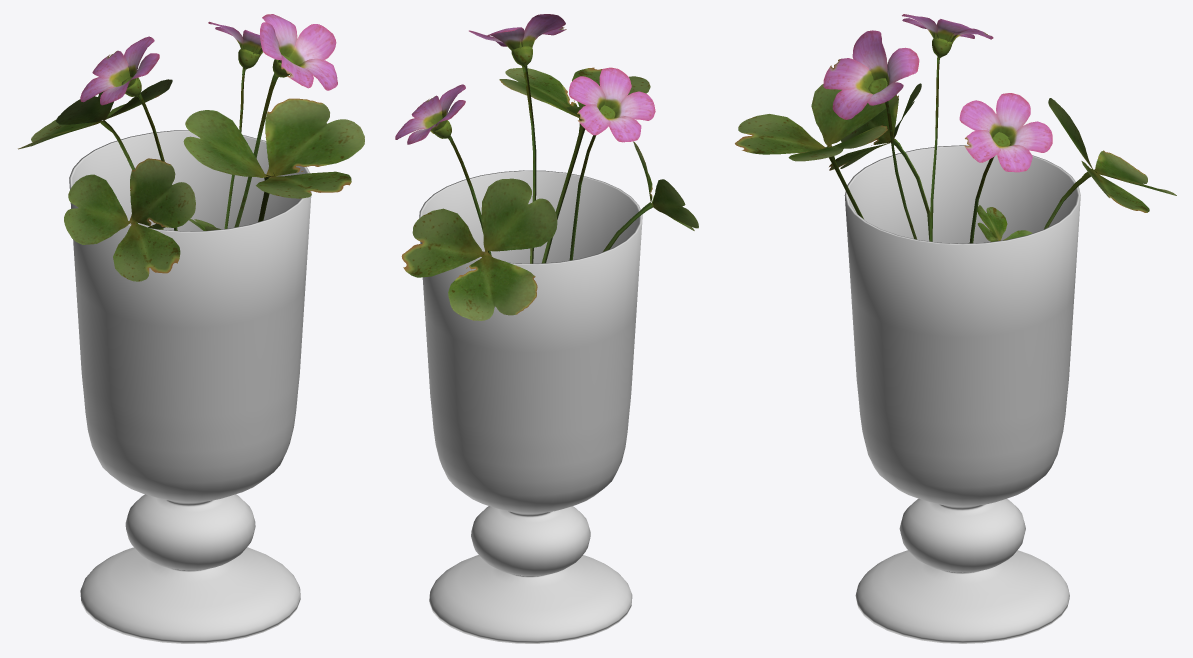
Rendered from khr_glass_vase_flowers.gltf.
3 renders of one model, left to right at view 1: azimuth 30°, elevation 25°; view 2: azimuth 150°, elevation 25°; view 3: azimuth 270°, elevation 25°, orthographic. The views are drawn at different scales.
Parts seen in each view (by area): view 1: GlassTransmission, Flowers2; view 2: GlassTransmission, Flowers2; view 3: GlassTransmission, Flowers2.
Part boxes in pixels (left/top/right/bottom): GlassTransmission: left=69, top=130, right=311, bottom=643; Flowers2: left=18, top=14, right=364, bottom=281; GlassTransmission: left=419, top=170, right=642, bottom=643; Flowers2: left=395, top=14, right=698, bottom=320; GlassTransmission: left=844, top=145, right=1080, bottom=643; Flowers2: left=735, top=14, right=1176, bottom=243.
Size of the model in its own units: 0.0973 by 0.2032 by 0.1425.
Materials: 2 (1 with a texture image).
